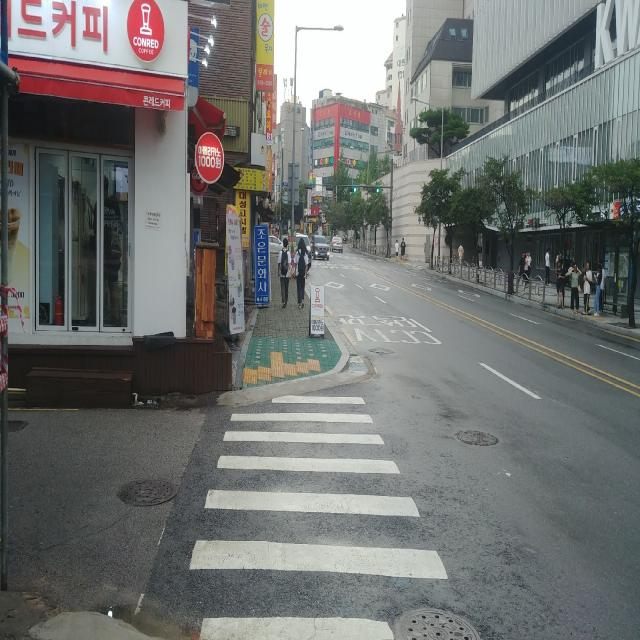횡단보도: (190, 395, 448, 640)
